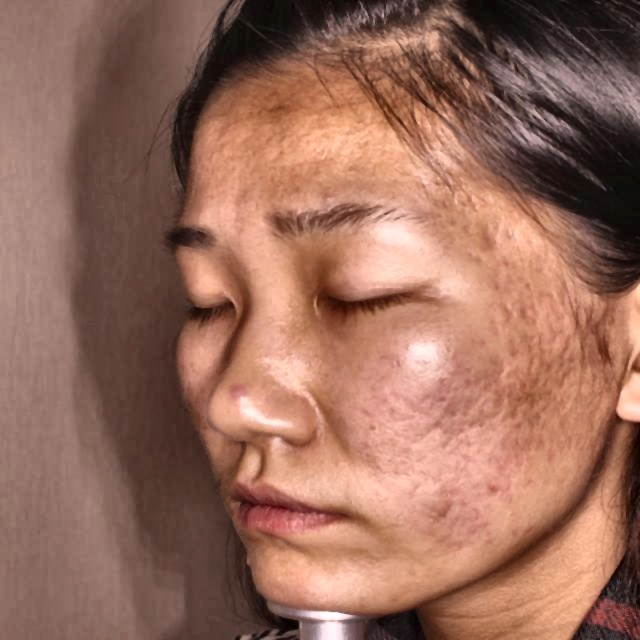comedone: (219, 376, 259, 411), (480, 473, 510, 502)
